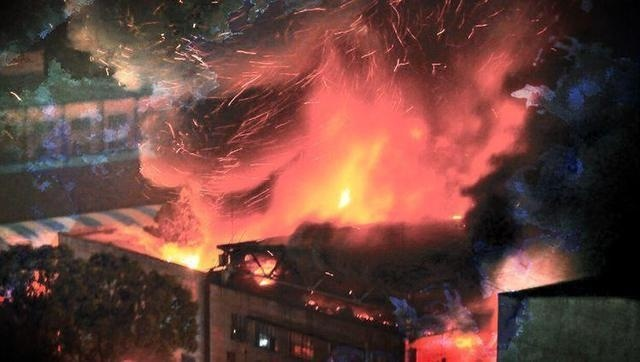fire: (162, 241, 206, 269)
